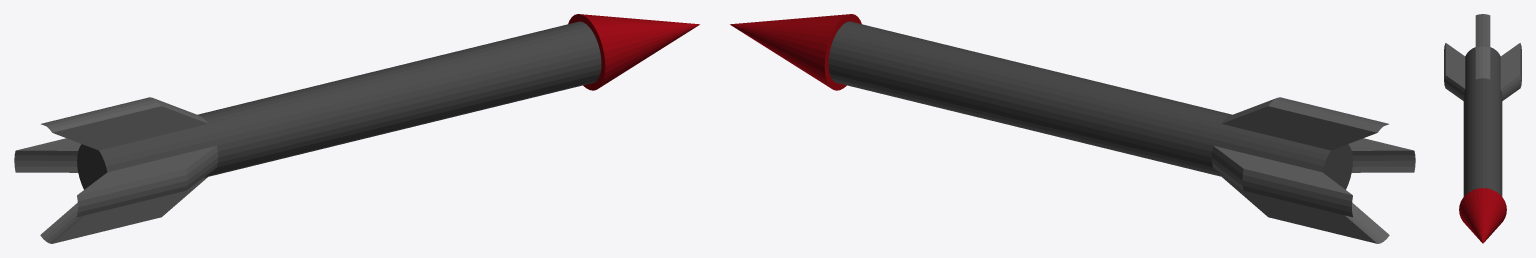
The model's file is missle.fbx.
The picture shows the model from 3 angles, left to right: view 1: azimuth 30°, elevation 25°; view 2: azimuth 150°, elevation 25°; view 3: azimuth 270°, elevation 25°; orthographic projection. The views are drawn at different scales.
Parts seen in each view (by area): view 1: Cylinder; view 2: Cylinder; view 3: Cylinder.
Part boxes in pixels (<box>): Cylinder: <box>14,14,699,243</box>; Cylinder: <box>730,14,1415,243</box>; Cylinder: <box>1444,14,1521,243</box>.
Size of the model in its own units: 1195 by 202 by 202.
